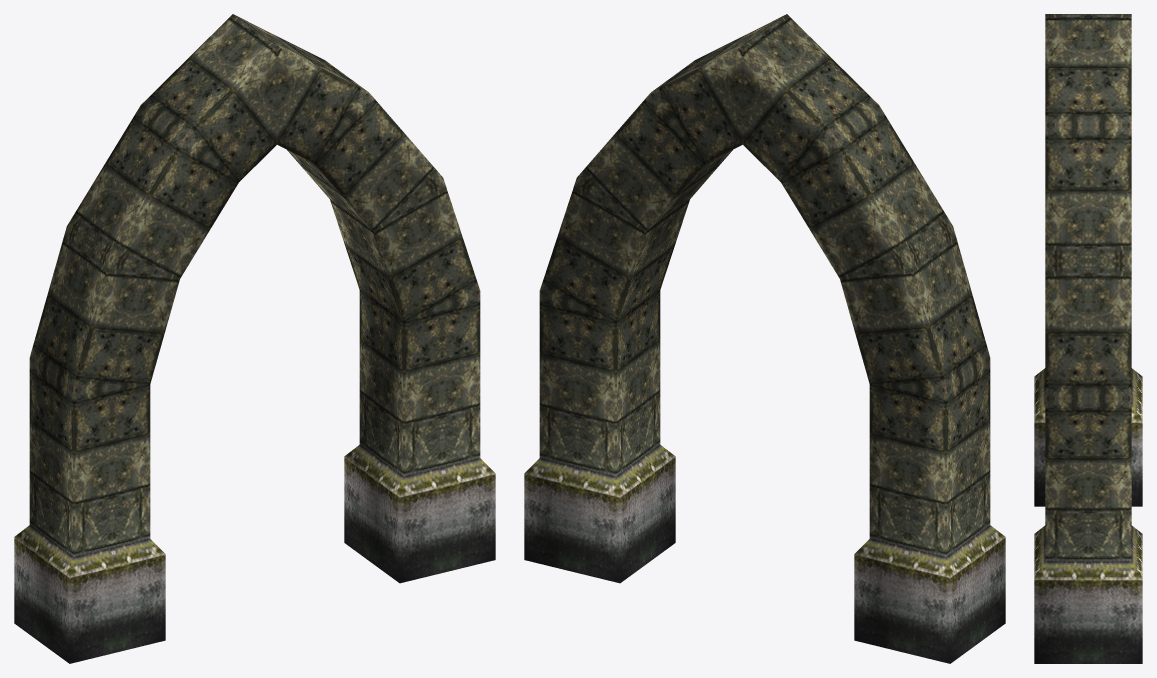
File: arc.gltf
The picture shows the model from 3 angles, left to right: view 1: azimuth 30°, elevation 25°; view 2: azimuth 150°, elevation 25°; view 3: azimuth 270°, elevation 25°; orthographic projection. The views are drawn at different scales.
Parts seen in each view (by area): view 1: arc; view 2: arc; view 3: arc.
Part boxes in pixels (box(x1,y1,x2,y2)): arc: box(14, 14, 495, 663); arc: box(524, 14, 1005, 663); arc: box(1034, 14, 1142, 663).
Size of the model in its own units: 2.19 by 2.76 by 0.4938.
1 material, 1 textured.
